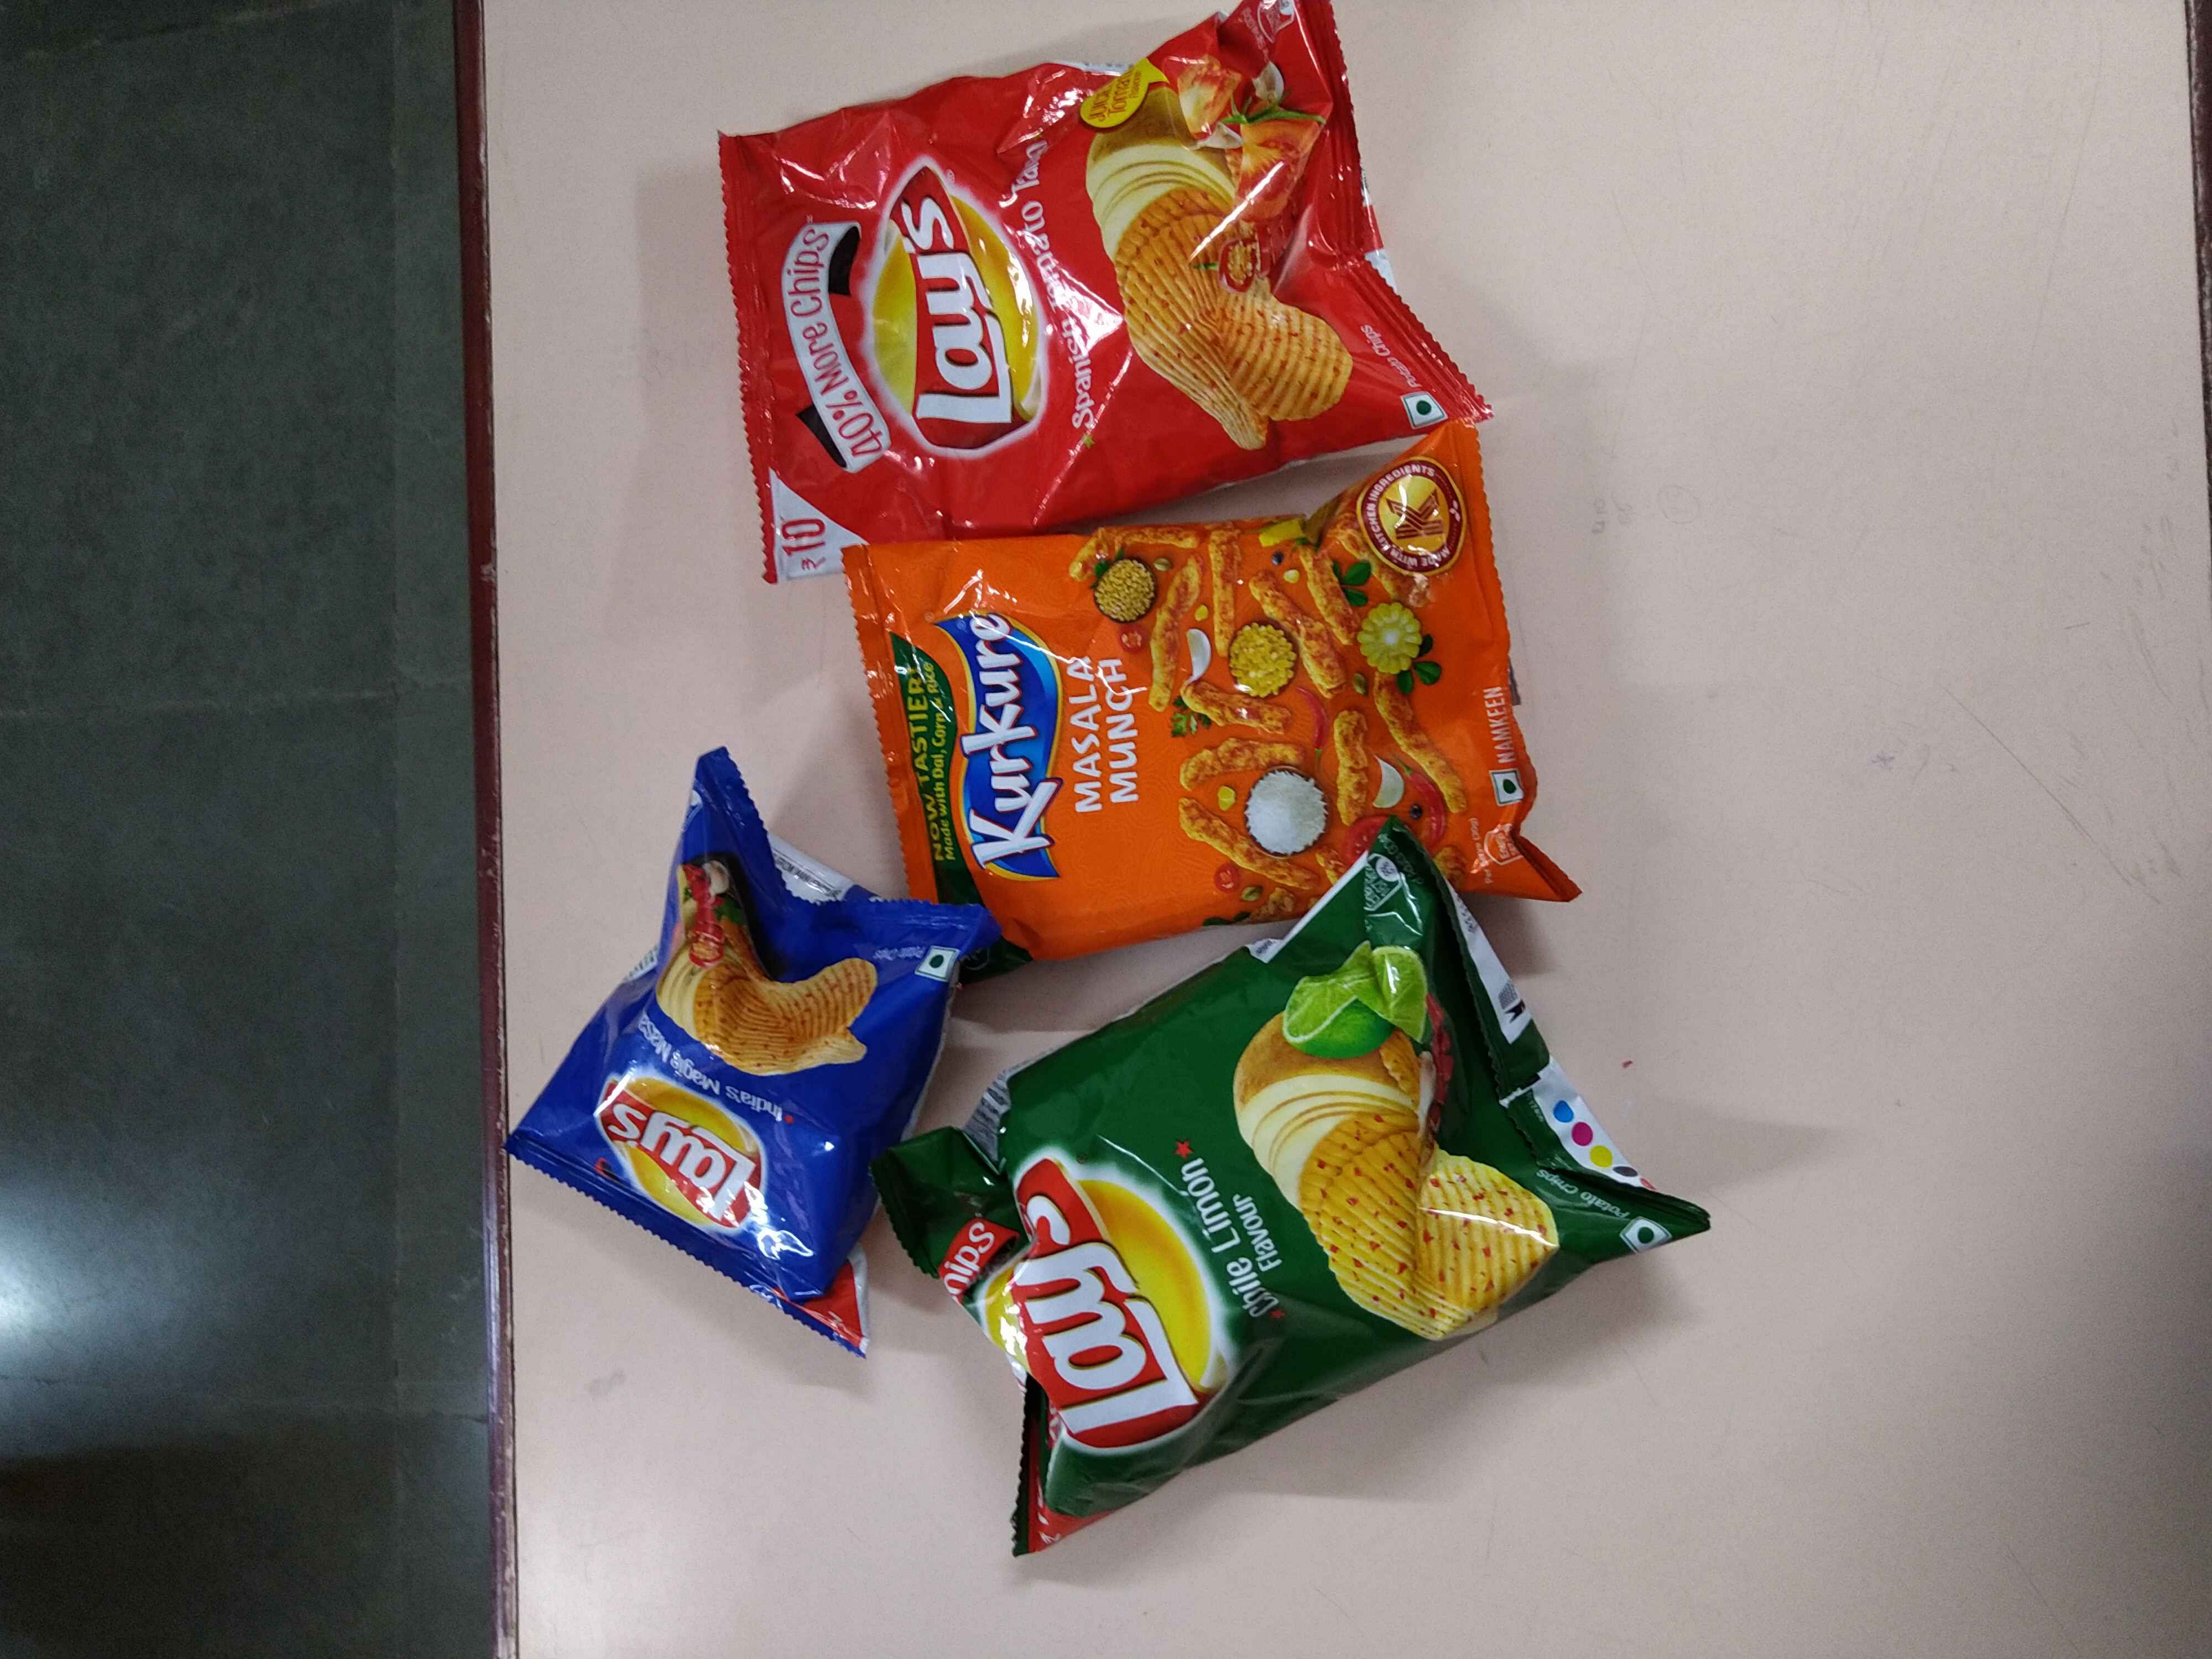Lays: (972, 1141, 1249, 1439), (841, 162, 1068, 462), (596, 1056, 791, 1253)
kurkure: (942, 599, 1071, 896)
